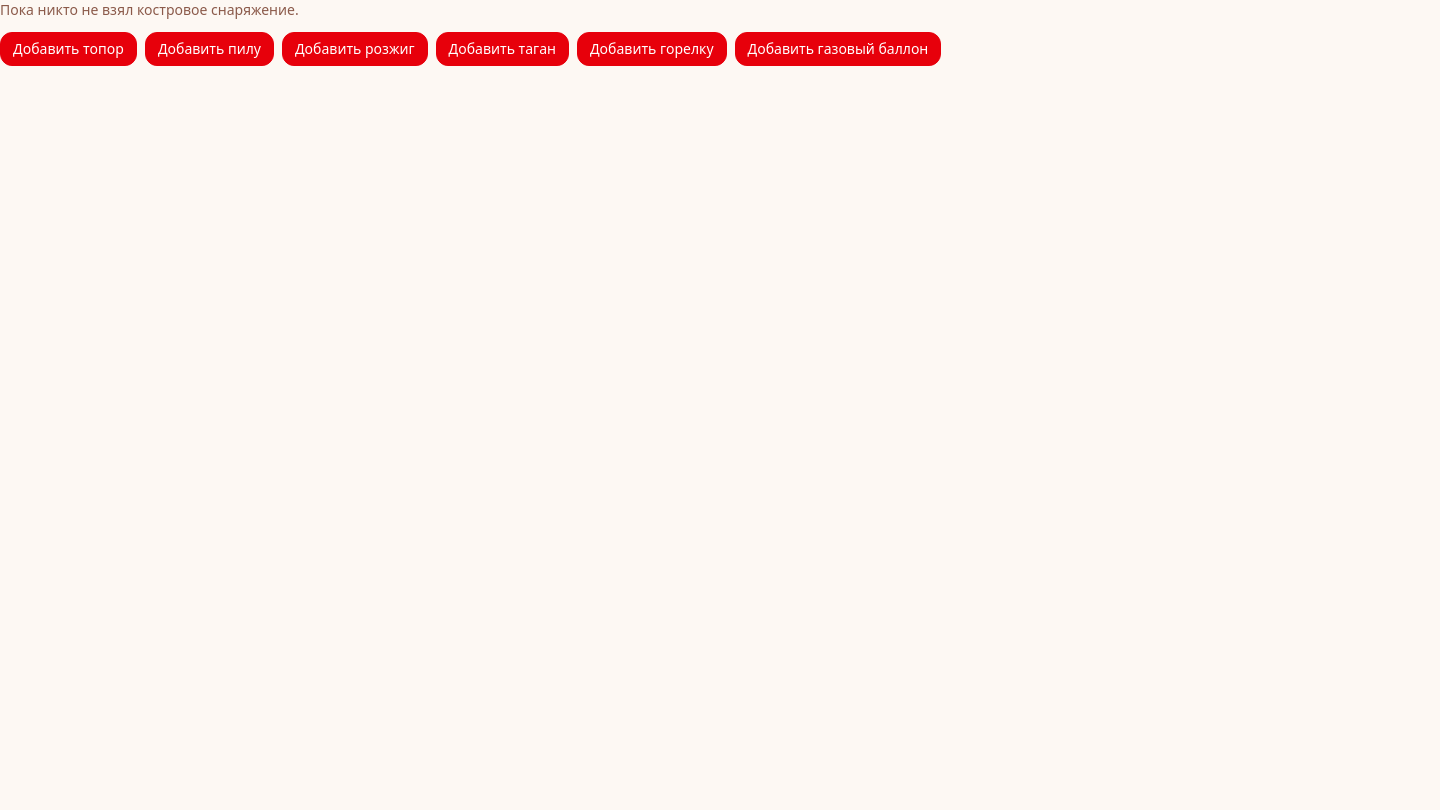
Scenario: секция «Костровое» › «Добавить топор» предлагает только вещи типа «Топор» из моего каталога
This screenshot has width=1440, height=810.
Click the button with test id "route-cooking-add-axe" at (68, 49), box [0,32,137,66]
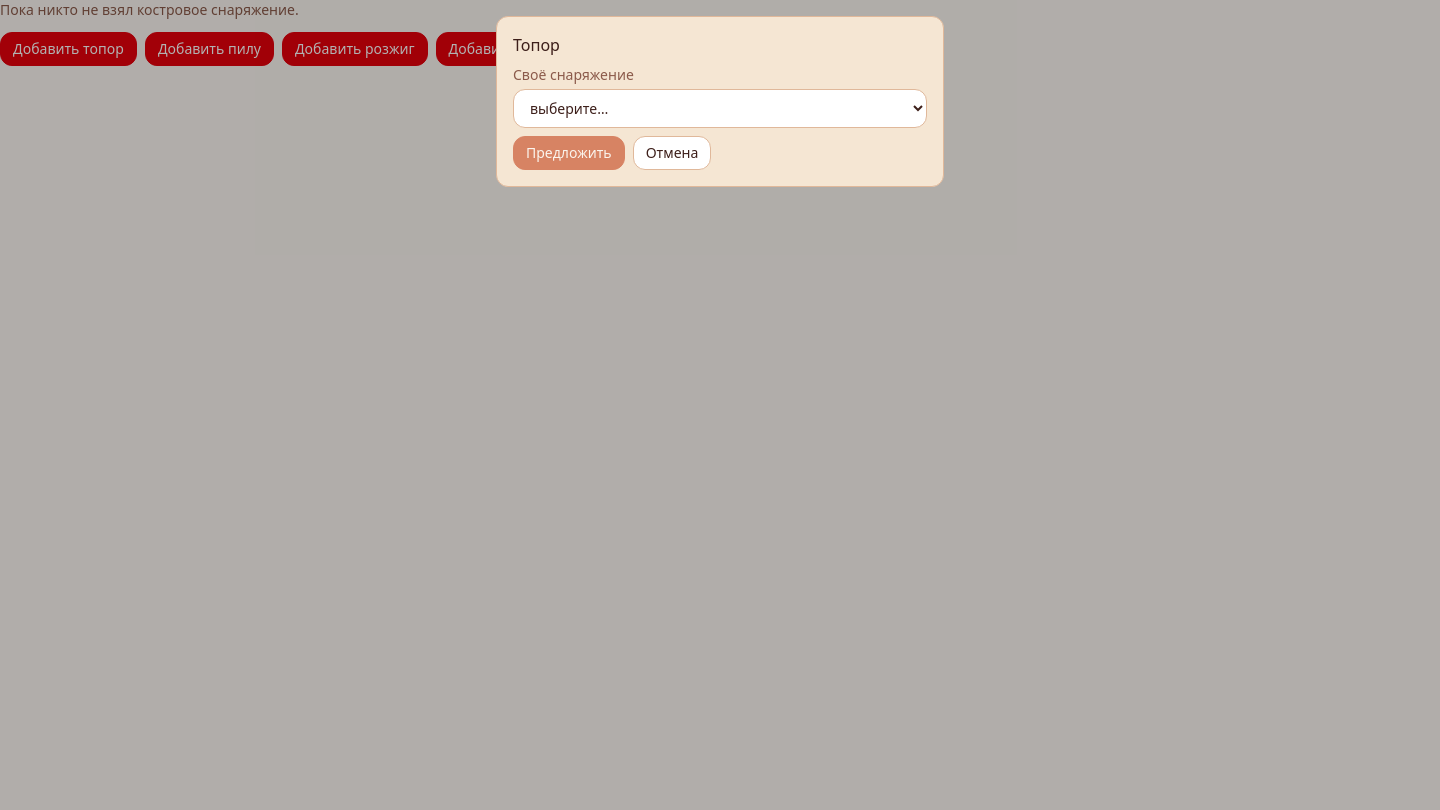
Check: the element with test id "route-cooking-dialog" is shown
Check: the heading "Топор" is shown, box [513,34,560,56]
